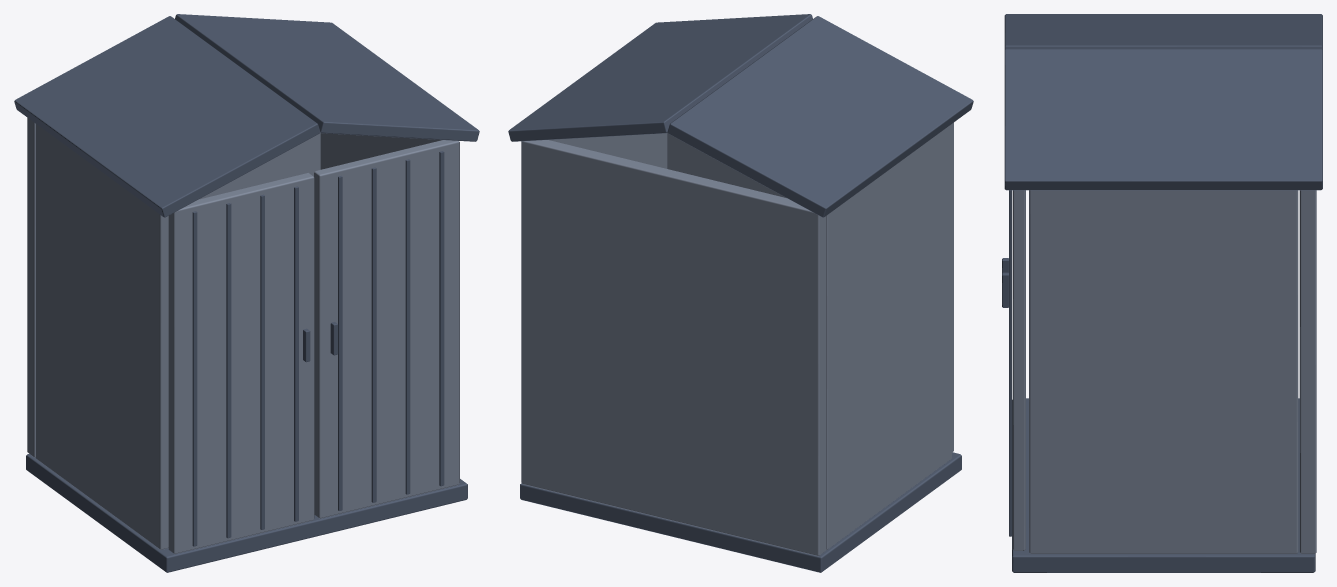
Rendered from garden-storage-shed-lite.glb.
3 renders of one model, left to right at view 1: azimuth 30°, elevation 25°; view 2: azimuth 150°, elevation 25°; view 3: azimuth 270°, elevation 25°, orthographic. The views are drawn at different scales.
Visible parts, largest first — view 1: garden-storage-shed; view 2: garden-storage-shed; view 3: garden-storage-shed.
Boxes of the visible parts, x1,y1,x2,y2 form: garden-storage-shed: [14, 14, 479, 572]; garden-storage-shed: [508, 14, 973, 572]; garden-storage-shed: [1002, 14, 1322, 572].
Size of the model in its own units: 1.6 by 2 by 1.3.
